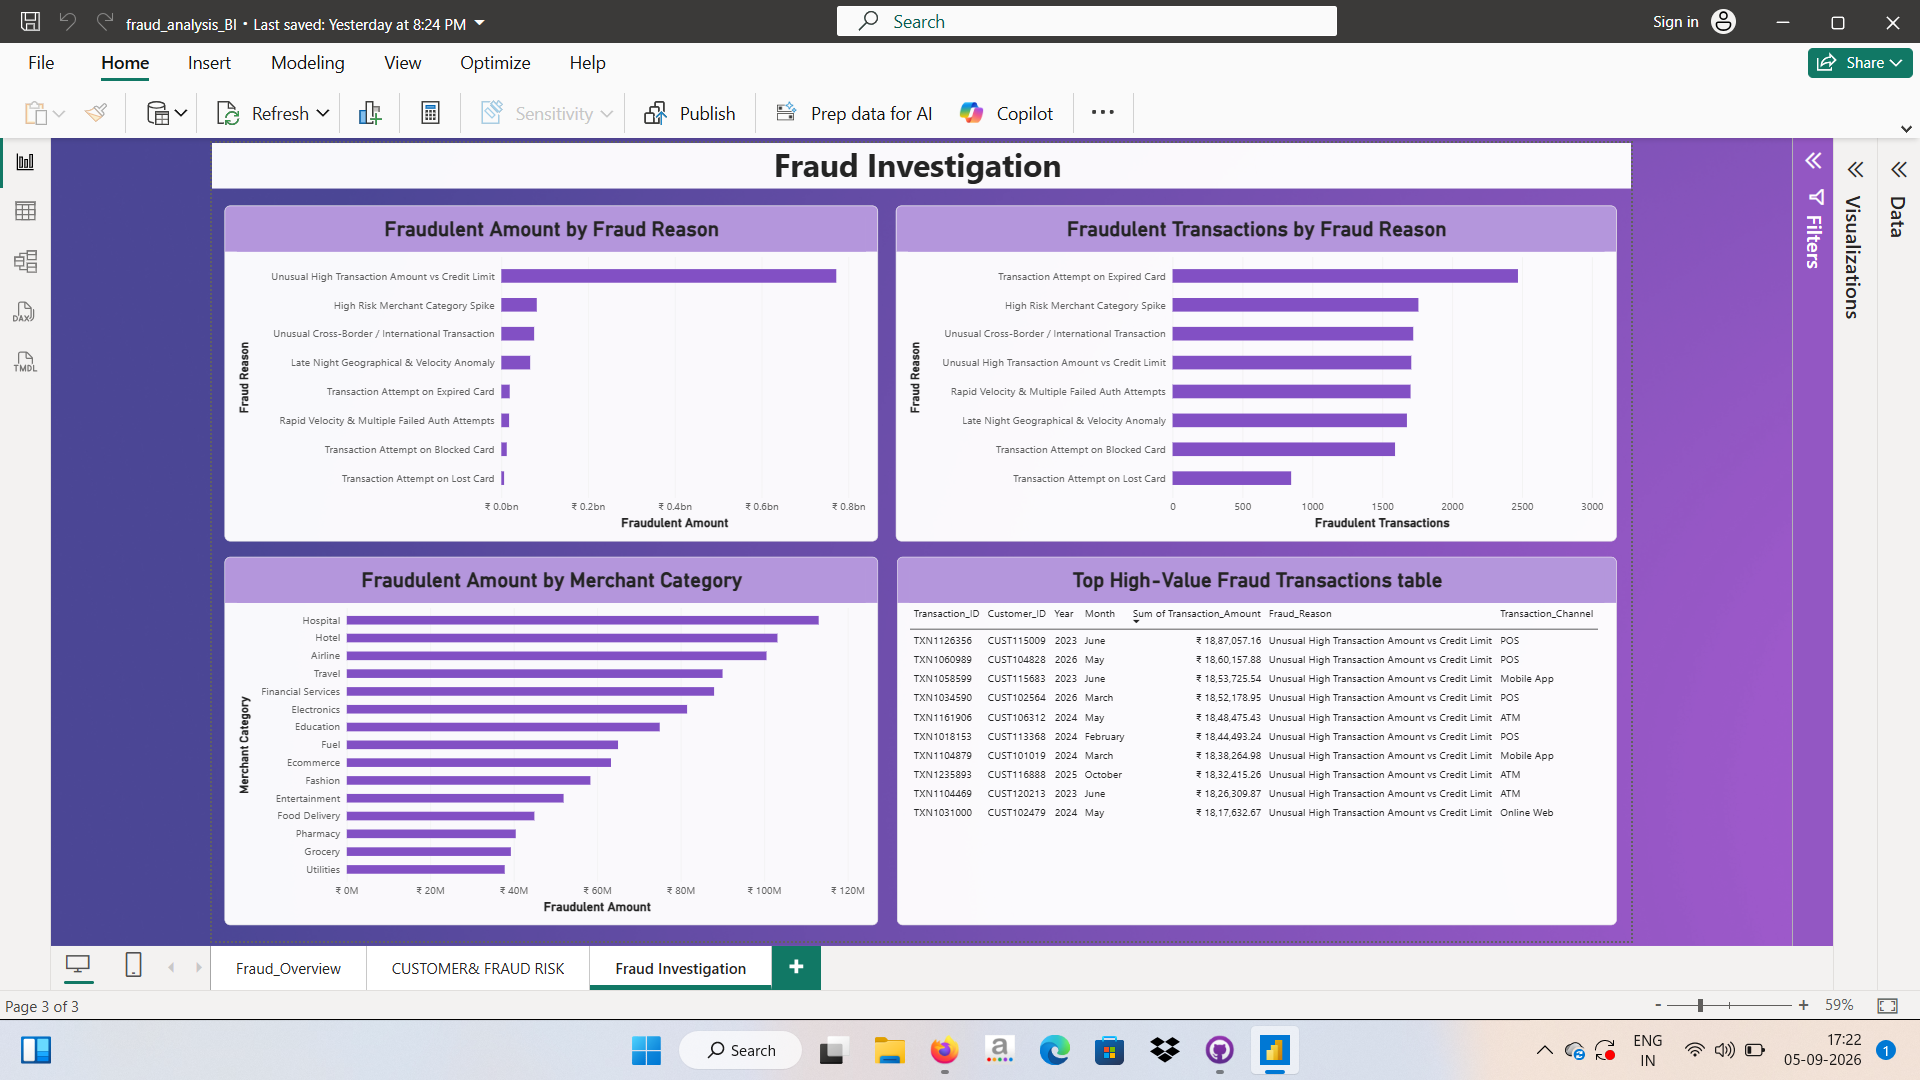

What the dashboard file says about the page in this screenshot:
{"tool":"powerbi","page":{"name":"Fraud Investigation","canvas":[1920,1080],"ordinal":2},"visuals":[{"type":"textbox","box":[0,0,1920.4,61.7],"z":0},{"type":"barChart","title":"Fraudulent Amount by Fraud Reason","fields":{"Category":["fraud_analysis transaction_data.Fraud_Reason"],"Y":["fraud_analysis transaction_data.Fraudulent_Transaction_Amount"]},"box":[16.9,84.6,884.1,454.7],"z":1000},{"type":"barChart","title":"Fraudulent Transactions by Fraud Reason","fields":{"Category":["fraud_analysis transaction_data.Fraud_Reason"],"Y":["Sum(fraud_analysis transaction_data.Fraud_Flag)"]},"box":[924.3,84.6,975,454.7],"z":2000},{"type":"barChart","title":"Fraudulent Amount by Merchant Category","fields":{"Y":["fraud_analysis transaction_data.Fraudulent_Transaction_Amount"],"Category":["fraud_analysis transaction_data.Merchant_Category"]},"box":[16.9,559.6,884.2,498.8],"z":3000},{"type":"tableEx","title":"Top High-Value Fraud Transactions table","fields":{"Values":["fraud_analysis transaction_data.Transaction_ID","fraud_analysis transaction_data.Customer_ID","fraud_analysis transaction_data.Transaction_Date.Variation.Date Hierarchy.Year","fraud_analysis transaction_data.Transaction_Date.Variation.Date Hierarchy.Month","Sum(fraud_analysis transaction_data.Transaction_Amount)","fraud_analysis transaction_data.Fraud_Reason","fraud_analysis transaction_data.Transaction_Channel"]},"box":[926.5,559.6,973.8,498.8],"z":4000}]}

Visuals, with their boxes on the page's 1920x1080 design canvas (x1, y1, x2, y2). These are canvas units, not pixel positions in the 1920x1080 screenshot, which may show the page scaled, cropped or inside an application window:
textbox: l=0, t=0, r=1920, b=62
"Fraudulent Amount by Fraud Reason" barChart: l=17, t=85, r=901, b=539
"Fraudulent Transactions by Fraud Reason" barChart: l=924, t=85, r=1899, b=539
"Fraudulent Amount by Merchant Category" barChart: l=17, t=560, r=901, b=1058
"Top High-Value Fraud Transactions table" tableEx: l=926, t=560, r=1900, b=1058
